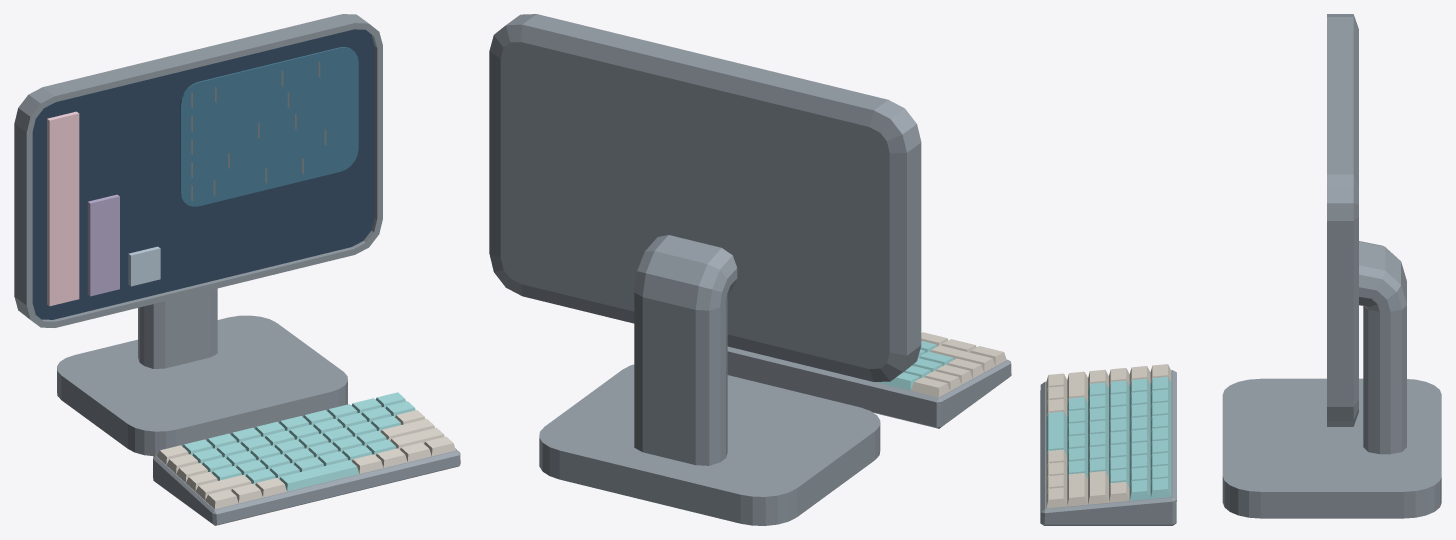
File: Computer.glb
3 views of the same model, side by side, from view 1: azimuth 30°, elevation 25°; view 2: azimuth 150°, elevation 25°; view 3: azimuth 270°, elevation 25° (orthographic). The views are drawn at different scales.
Visible parts, largest first — view 1: Screen, Stand, Keyboard, Cube, Bar 1, Bar 2, Bar 3; view 2: Screen, Stand, Keyboard; view 3: Stand, Keyboard, Screen.
Part boxes in pixels (x1,y1,x2,y2): Screen: [14, 14, 382, 327]; Stand: [57, 288, 347, 456]; Keyboard: [153, 392, 460, 525]; Cube: [180, 47, 358, 206]; Bar 1: [47, 111, 79, 306]; Bar 2: [87, 194, 119, 296]; Bar 3: [128, 246, 160, 286]; Screen: [489, 14, 921, 381]; Stand: [539, 235, 880, 525]; Keyboard: [727, 332, 1011, 428]; Stand: [1222, 241, 1441, 518]; Keyboard: [1040, 364, 1176, 525]; Screen: [1327, 14, 1358, 426].
Bounding box in the file's own units: 12.04 × 11 × 10.93.
